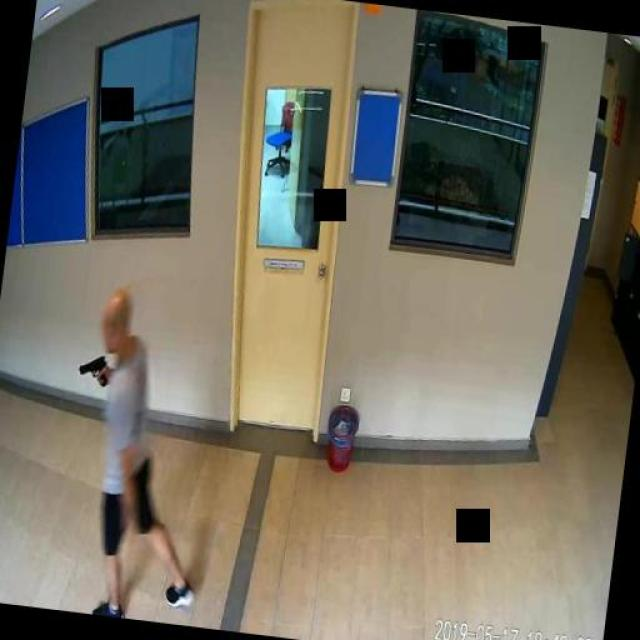gun: (76, 352, 110, 387)
